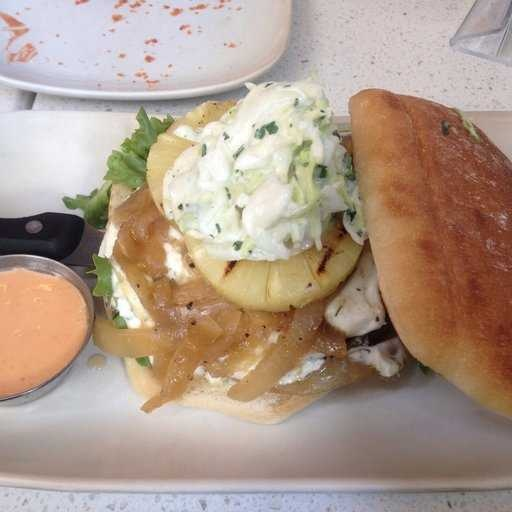hamburger: (79, 88, 508, 406)
